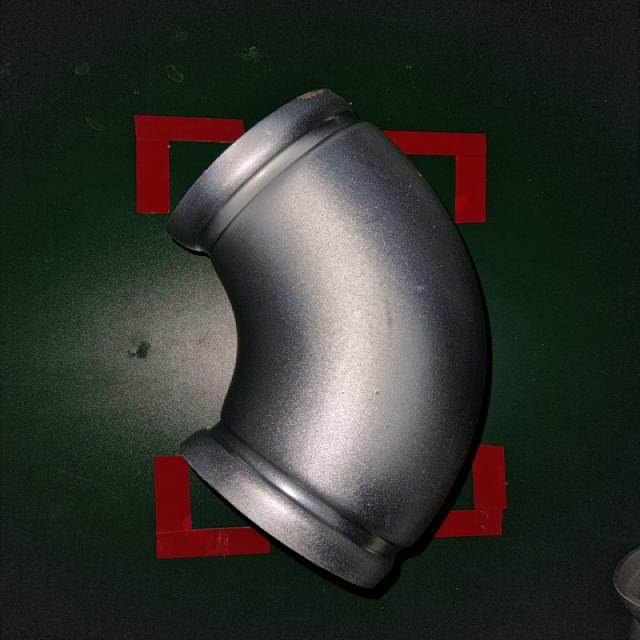Normal: (165, 81, 502, 602)
